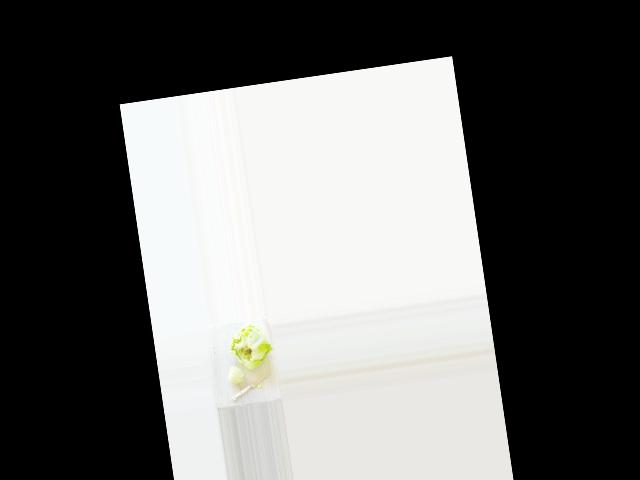lettuce: (226, 318, 272, 367)
